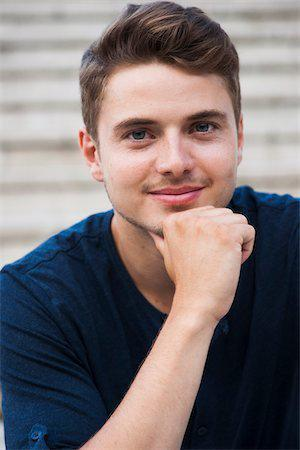Sober: (103, 70, 231, 219)
